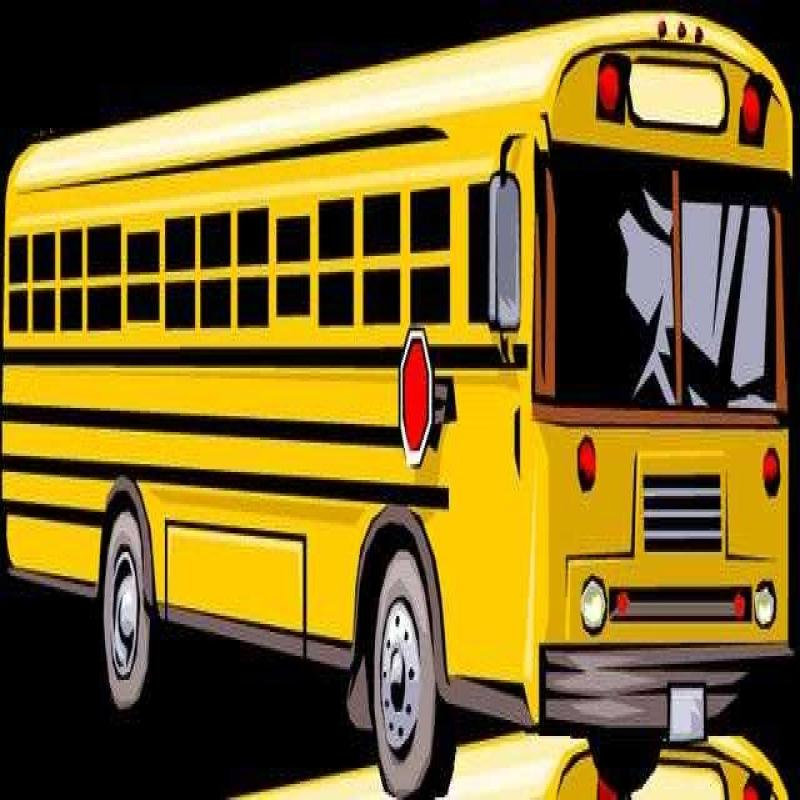bus: (5, 5, 800, 800)
